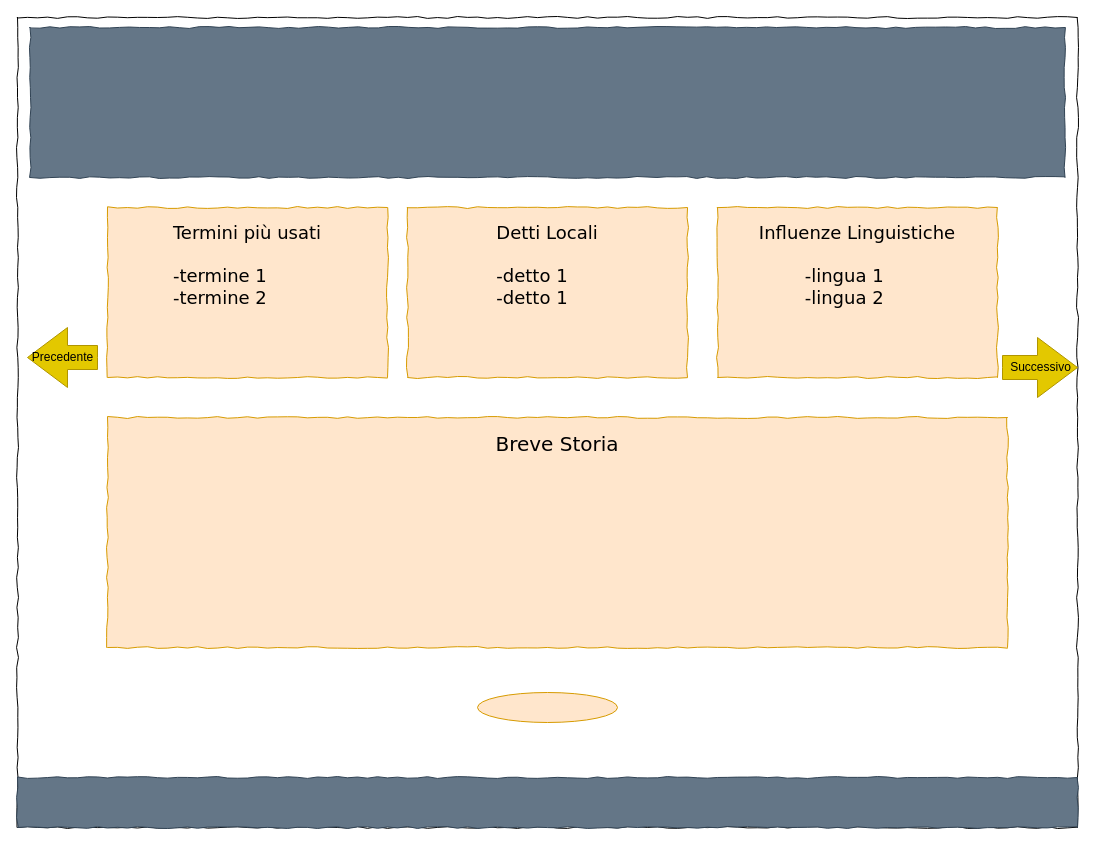
Image size: 1095x845. Some labels were removed from this diagram. The centre of each missing label's shape, as x and y in pixels:
Footer: the point at 547,802
ITEM 1 Sottotitolo: the point at 547,102
Torna a Dialetti: the point at 547,707
